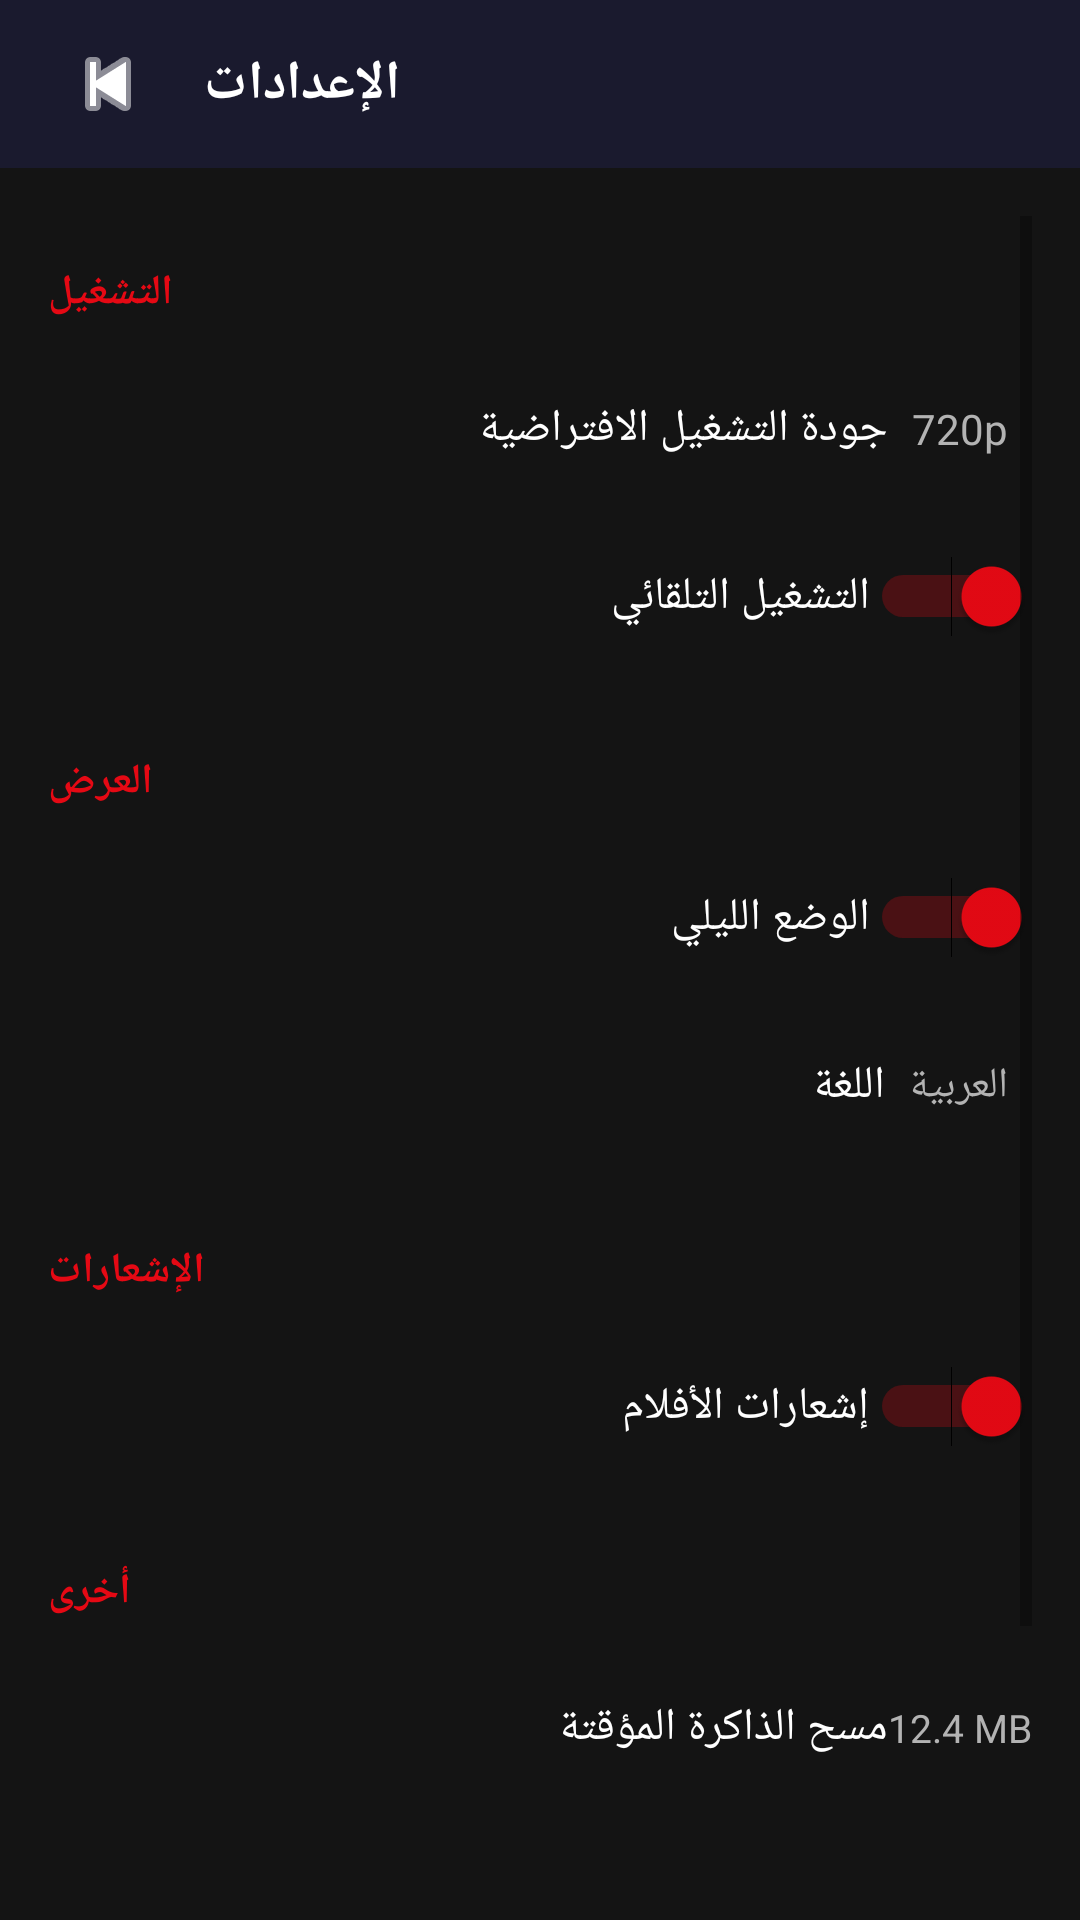

Named icons in this screenshot (1080*1920) and their centers, (x=x, y=y):
previous: (x=108, y=84)
